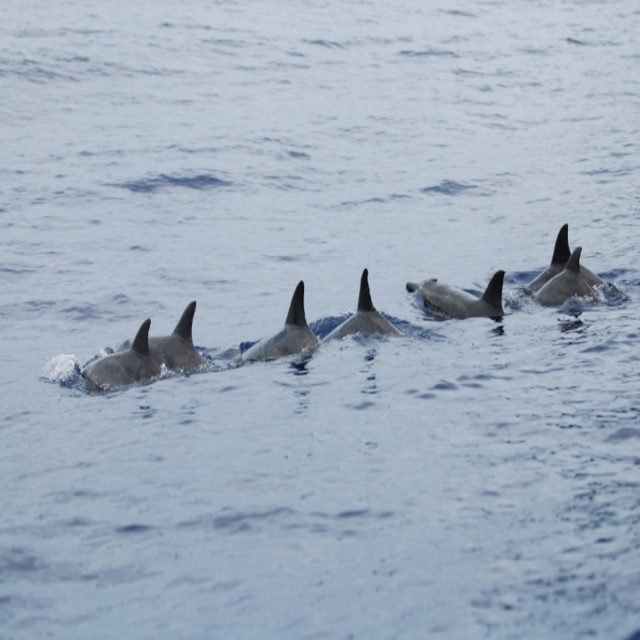Whale: (80, 223, 606, 391)
